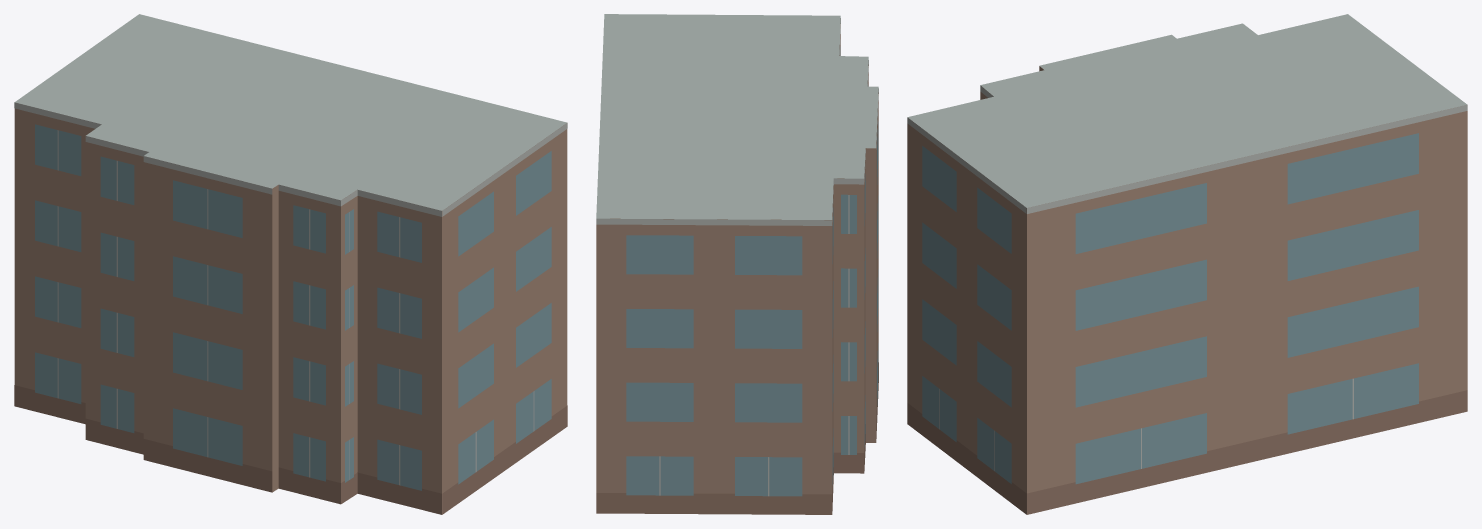
File: survey-upis-32714569.glb
The picture shows the model from 3 angles, left to right: view 1: azimuth 30°, elevation 25°; view 2: azimuth 150°, elevation 25°; view 3: azimuth 270°, elevation 25°; orthographic projection. The views are drawn at different scales.
Visible parts, largest first — view 1: survey-upis-32714569.tmp; view 2: survey-upis-32714569.tmp; view 3: survey-upis-32714569.tmp.
Part boxes in pixels (box(x1,y1,x2,y2)): survey-upis-32714569.tmp: box(14, 14, 567, 514); survey-upis-32714569.tmp: box(596, 14, 878, 514); survey-upis-32714569.tmp: box(907, 14, 1467, 514).
Size of the model in its own units: 16.56 by 12.2 by 20.2.
